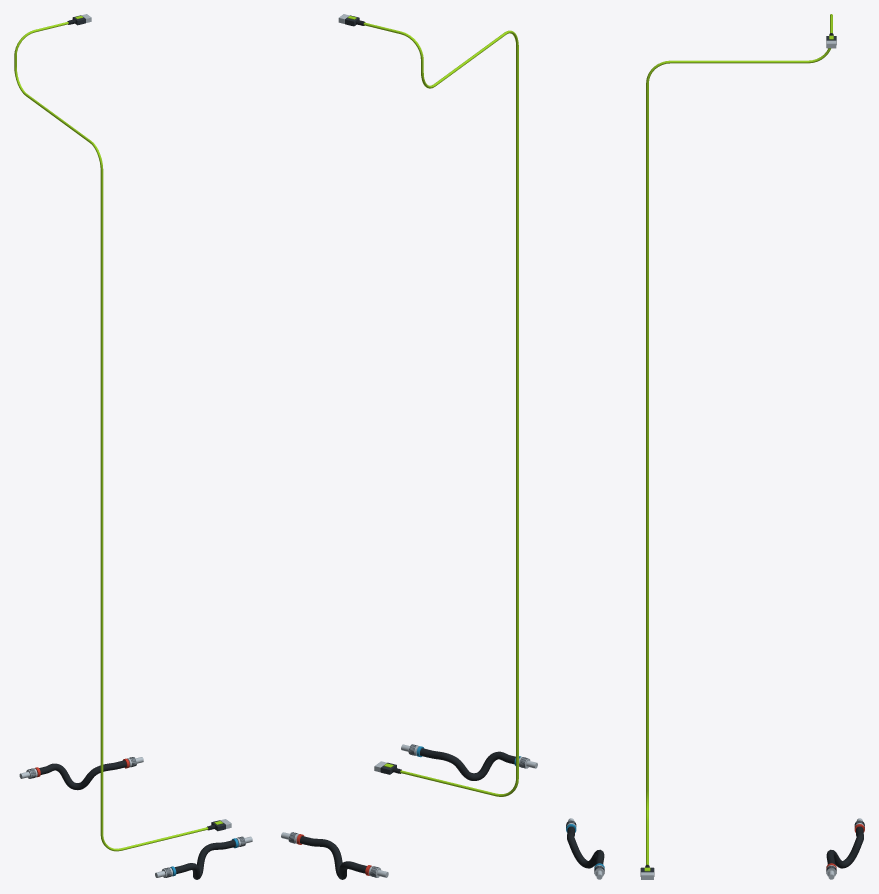
Rendered from SM_GJ_Harness_00.fbx.
The picture shows the model from 3 angles, left to right: view 1: azimuth 30°, elevation 25°; view 2: azimuth 150°, elevation 25°; view 3: azimuth 270°, elevation 25°; orthographic projection. The views are drawn at different scales.
Parts seen in each view (by area): view 1: SM_GJ_Harness_00; view 2: SM_GJ_Harness_00; view 3: SM_GJ_Harness_00.
Boxes of the visible parts, x1=… form: SM_GJ_Harness_00: x1=14, y1=14, x2=252, y2=879; SM_GJ_Harness_00: x1=281, y1=14, x2=537, y2=879; SM_GJ_Harness_00: x1=566, y1=14, x2=864, y2=879.
Bounding box in the file's own units: 26.73 × 50.76 × 155.
